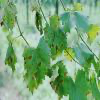grape leaf black rot: (21, 36, 50, 94), (60, 4, 91, 36), (49, 59, 70, 99), (44, 24, 66, 60), (70, 40, 94, 70), (69, 71, 90, 99), (4, 38, 19, 74), (7, 1, 18, 34), (0, 4, 10, 36), (34, 7, 44, 36), (89, 76, 99, 99)
